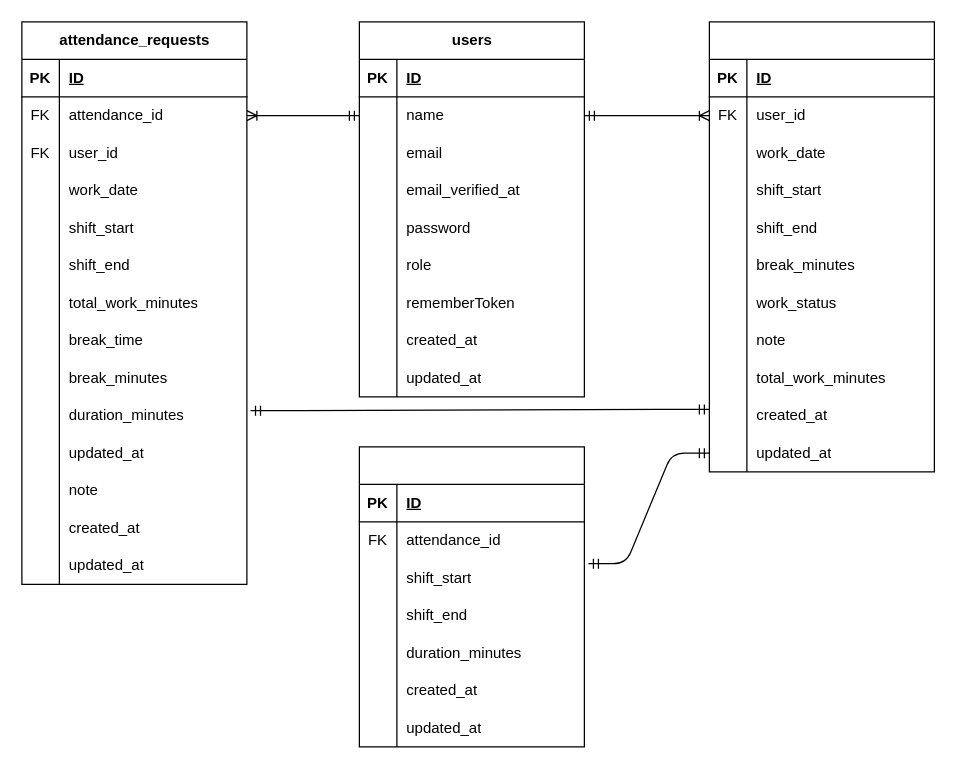
The diagram is 956 pixels wide and 769 high, and some of its shapes have lost their labels. The shapes that lost their labels are listed below. From the top down, each one's box as (x1, y1, x2, y2) in pixels, then its label:
(708, 21, 934, 472): attendances
(358, 446, 584, 747): break_times
